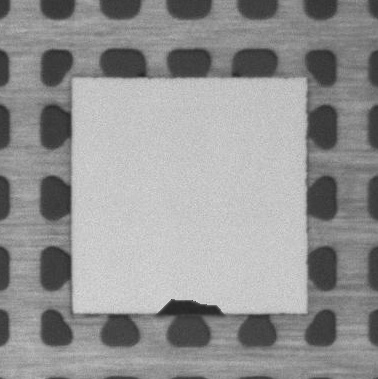DIE_BROKEN: (153, 297, 226, 320)
